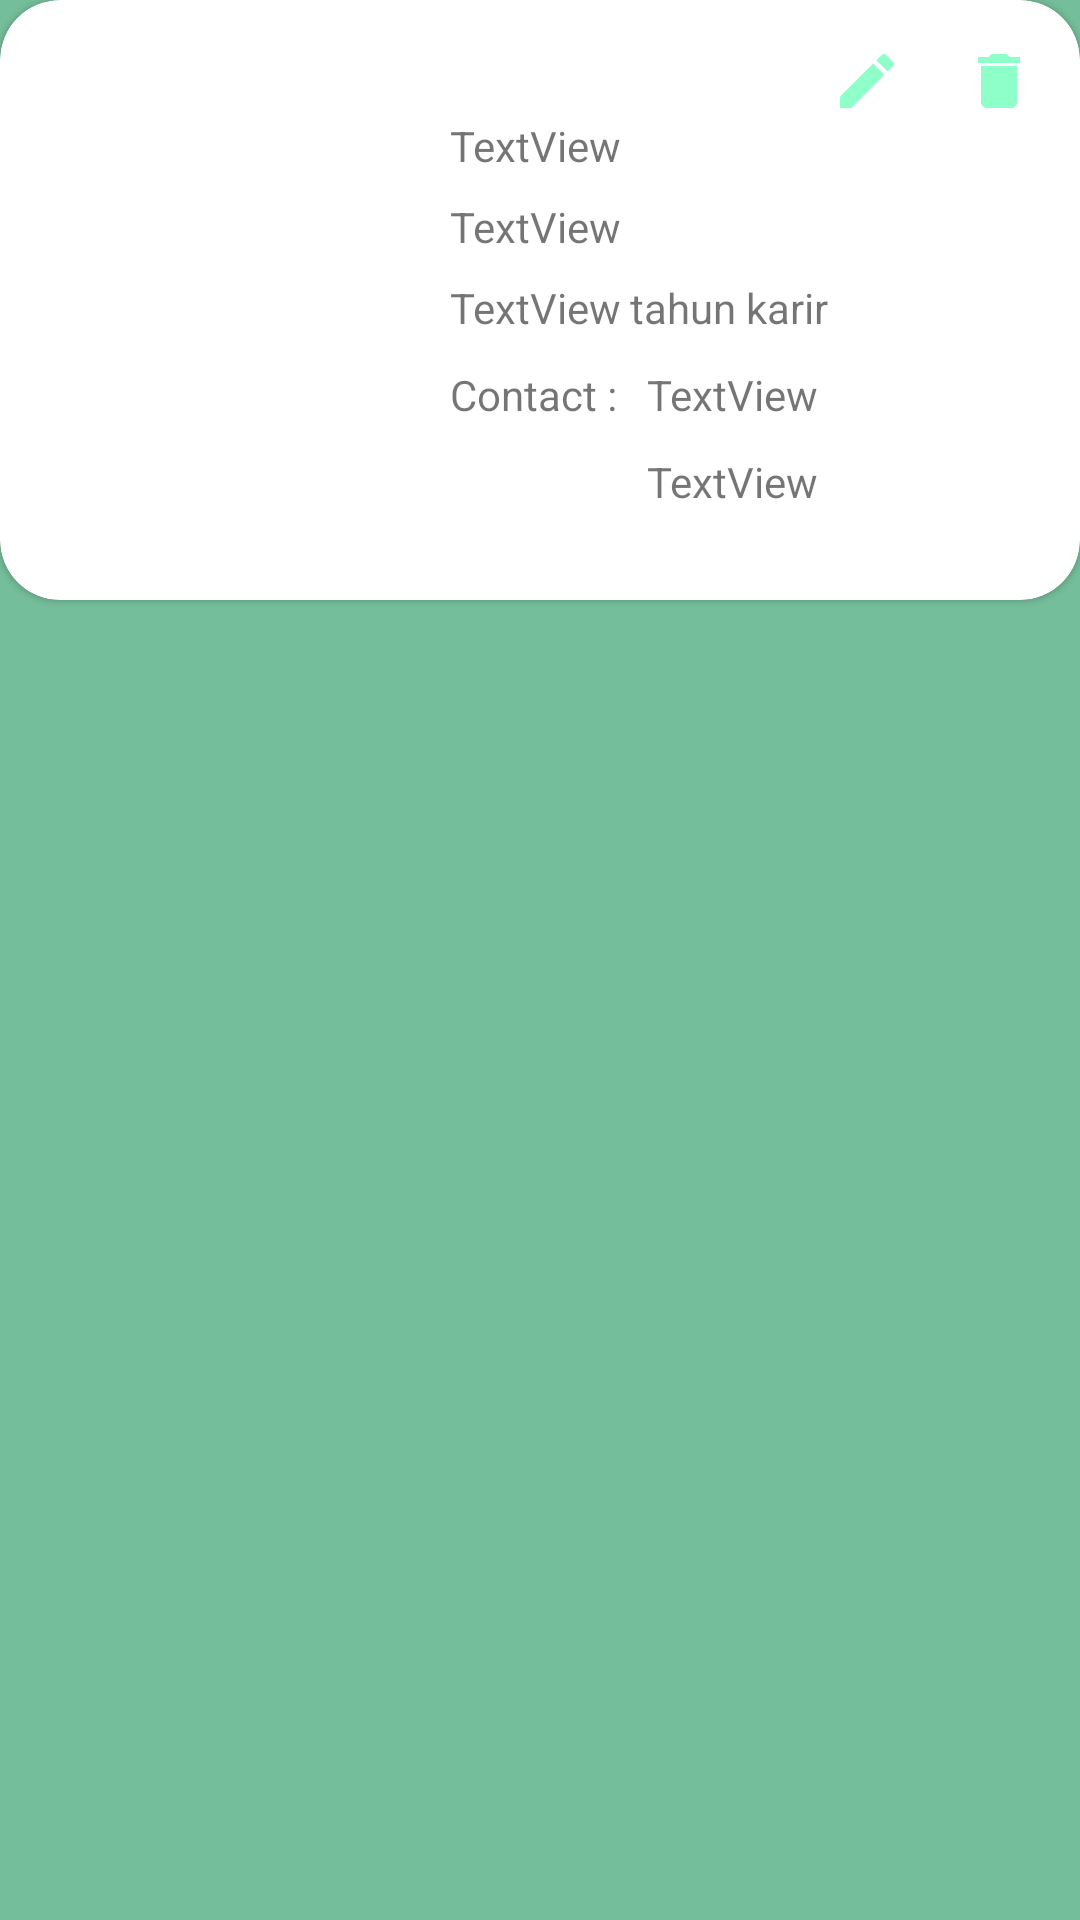

Point at icon controls on the screen. Image size 1080px x 1920px, points as (x,y).
mode edit: (867,81)
